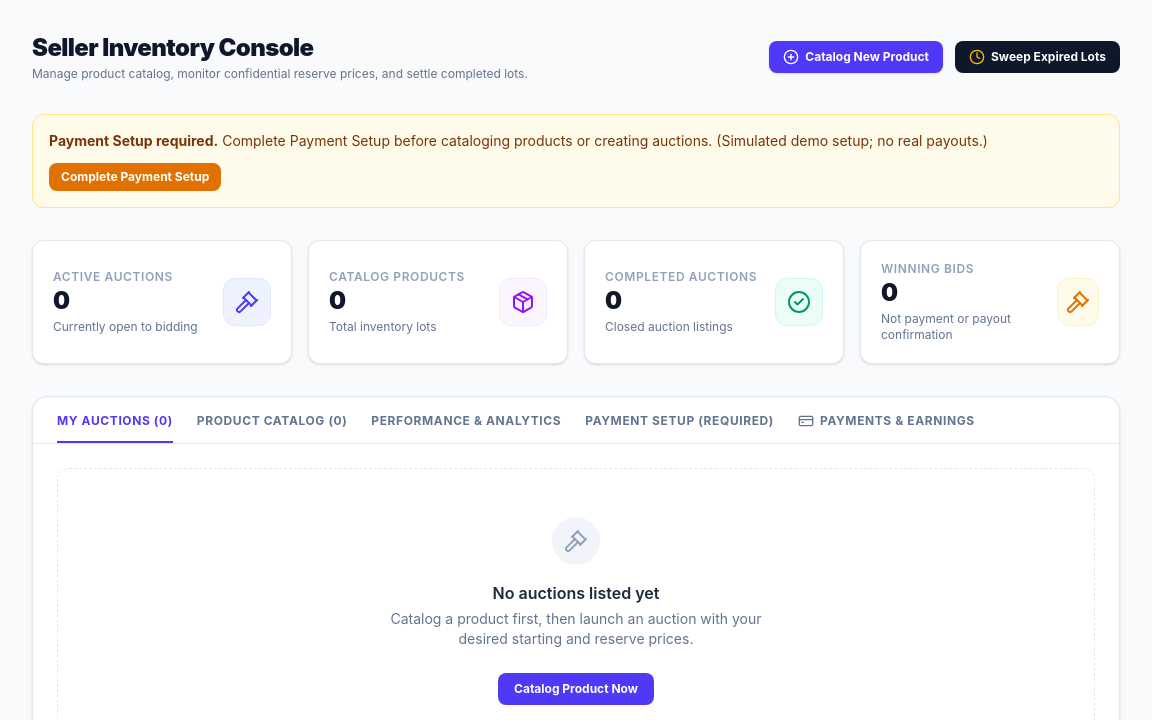
Test case: Seller dashboard gating › completes setup and then allows cataloging
Expected: the text "Payment Setup required." is shown, [49,132,218,149]
Click the button "Payment Setup (Required)": x=680, y=428 [585,413,774,443]
(page scrolled)
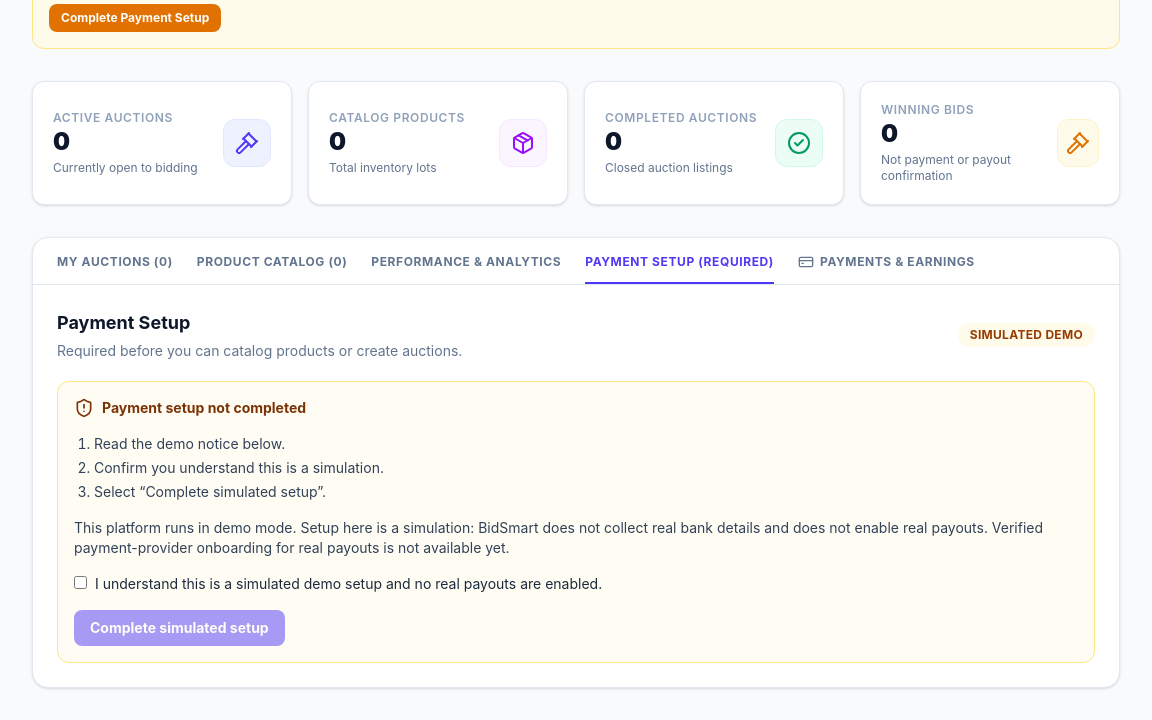
Click the checkbox: x=80, y=582 [74,576,87,589]
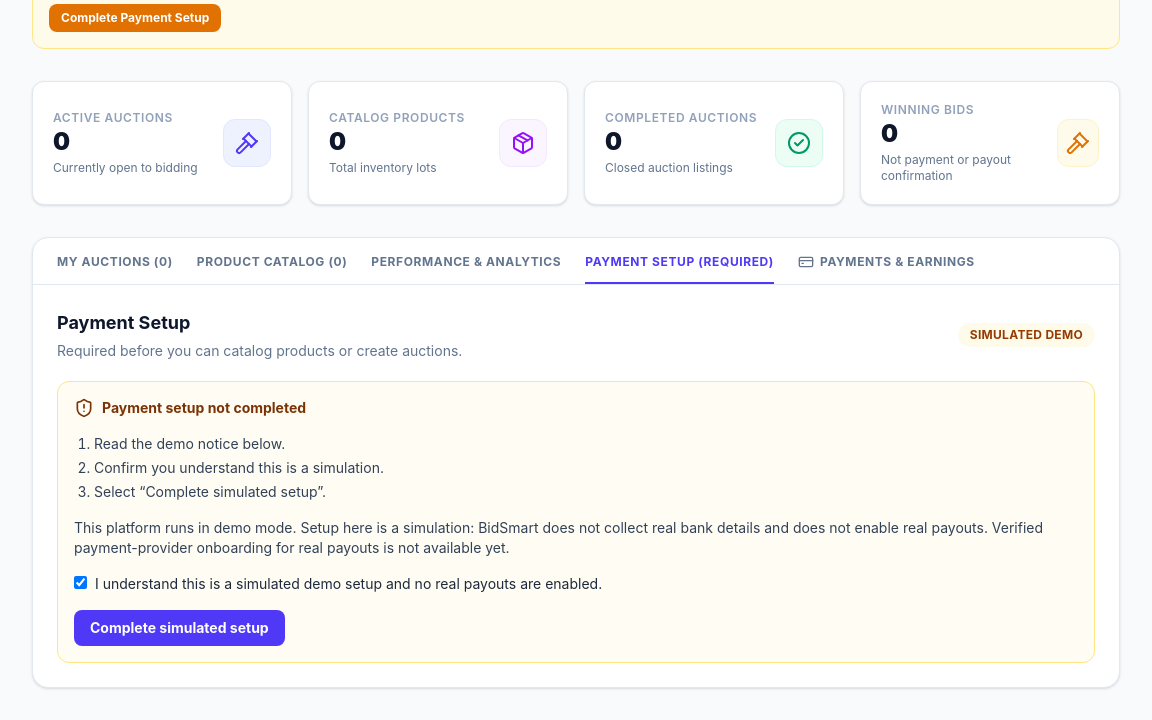
Click the button "Complete simulated setup": x=179, y=628 [74,610,285,646]
(page scrolled)
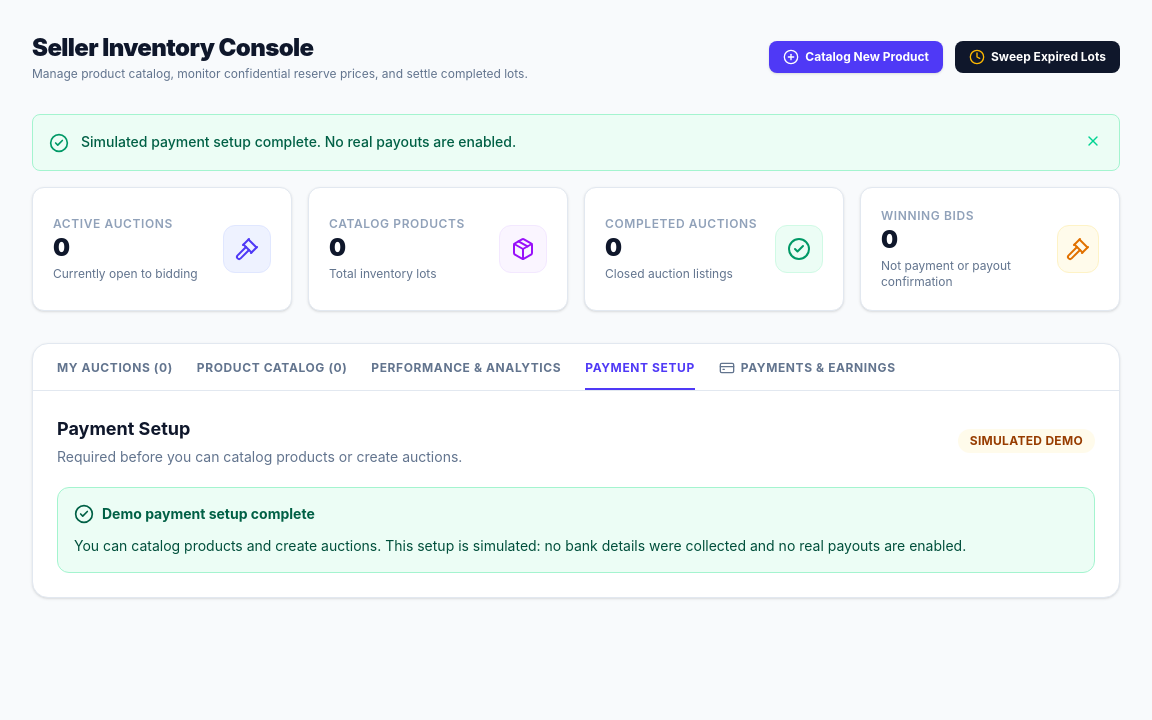
Click the button "Catalog New Product": x=856, y=57 [769,41,943,73]
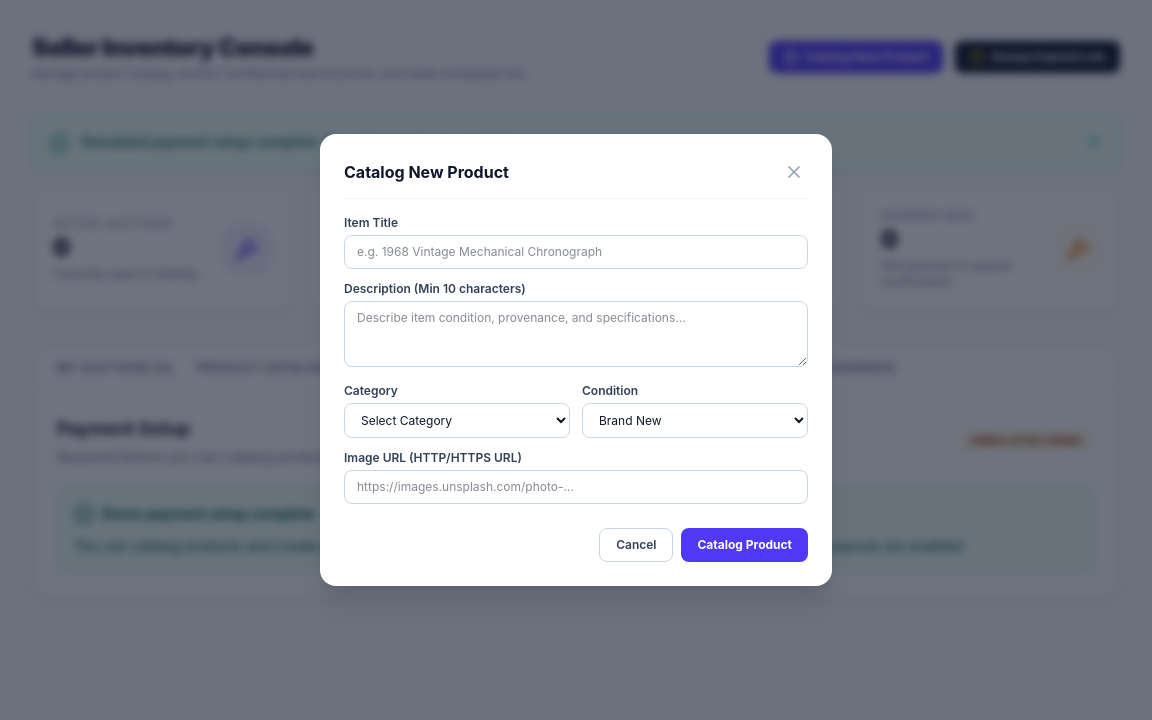
Now the heading "Catalog New Product" is shown, box [344,160,509,184]
